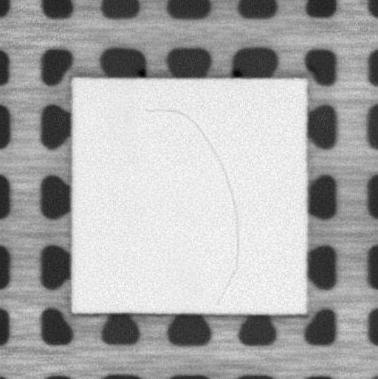DIE_CRACK: (143, 108, 240, 305)
